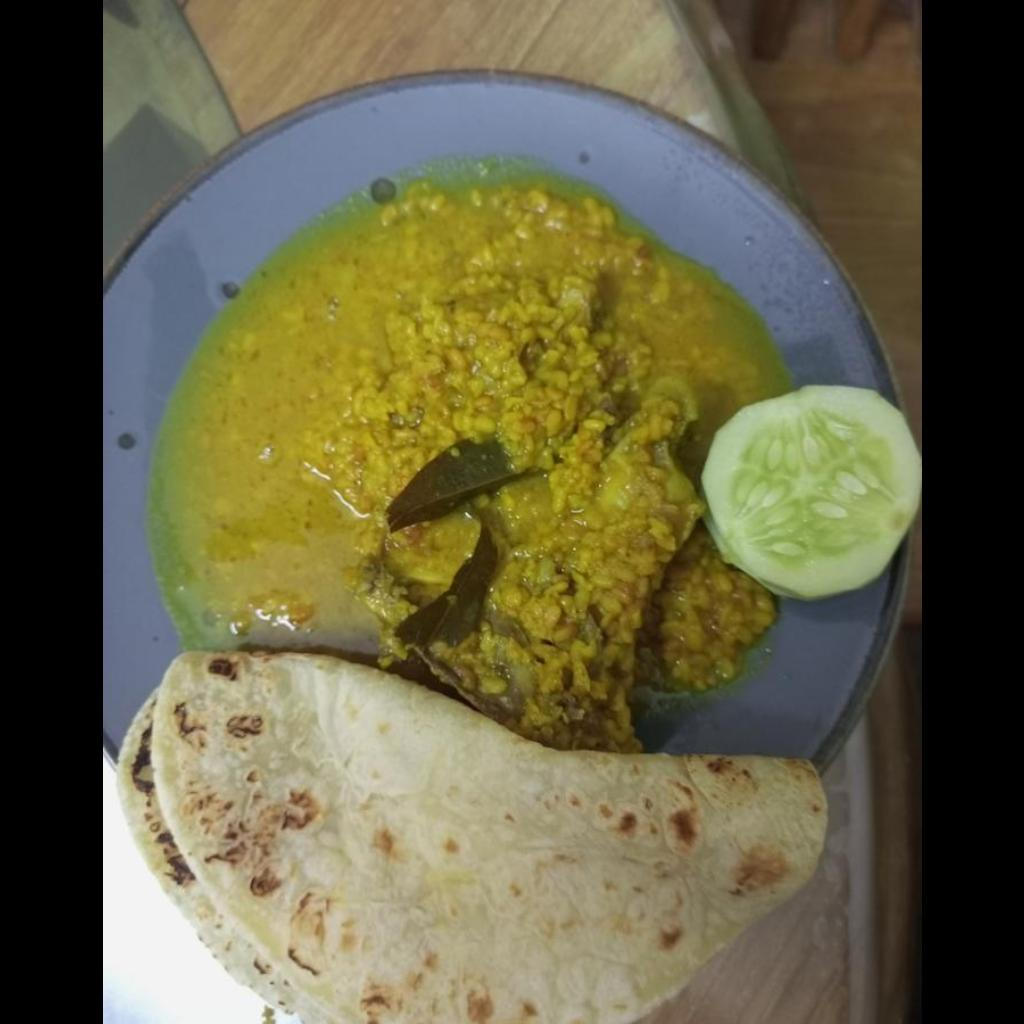cucumber: (695, 384, 920, 598)
daal: (150, 177, 787, 752)
ruti: (120, 652, 829, 1022)
